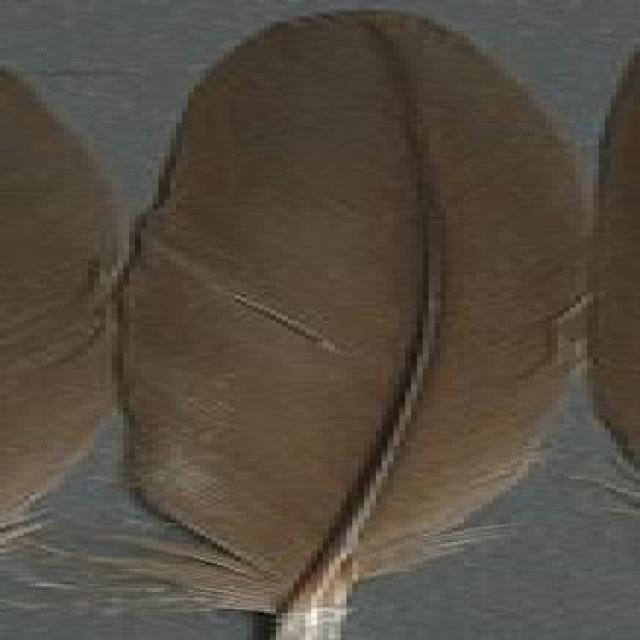feather: (88, 6, 587, 640)
